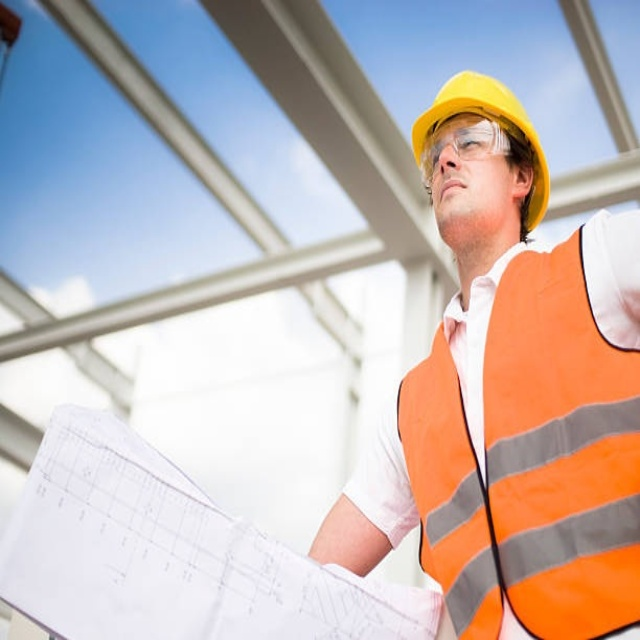Gafas: (425, 126, 517, 184)
Sin_mascara: (433, 171, 478, 224)
